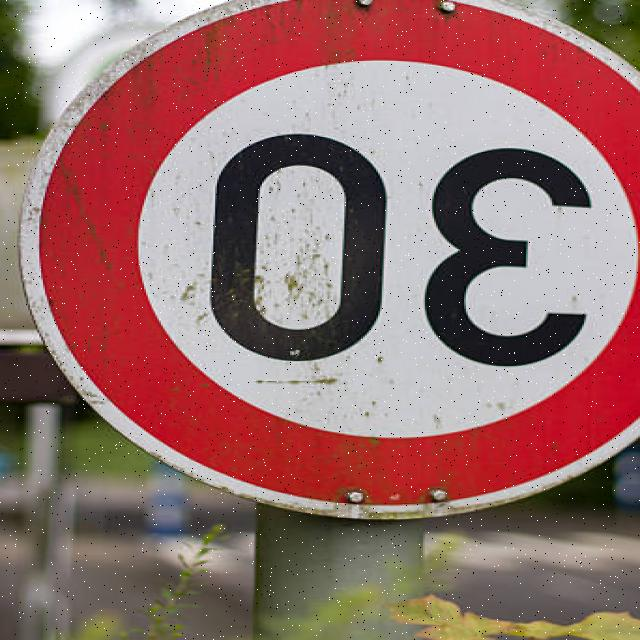speed_limit_30: (15, 0, 640, 524)
